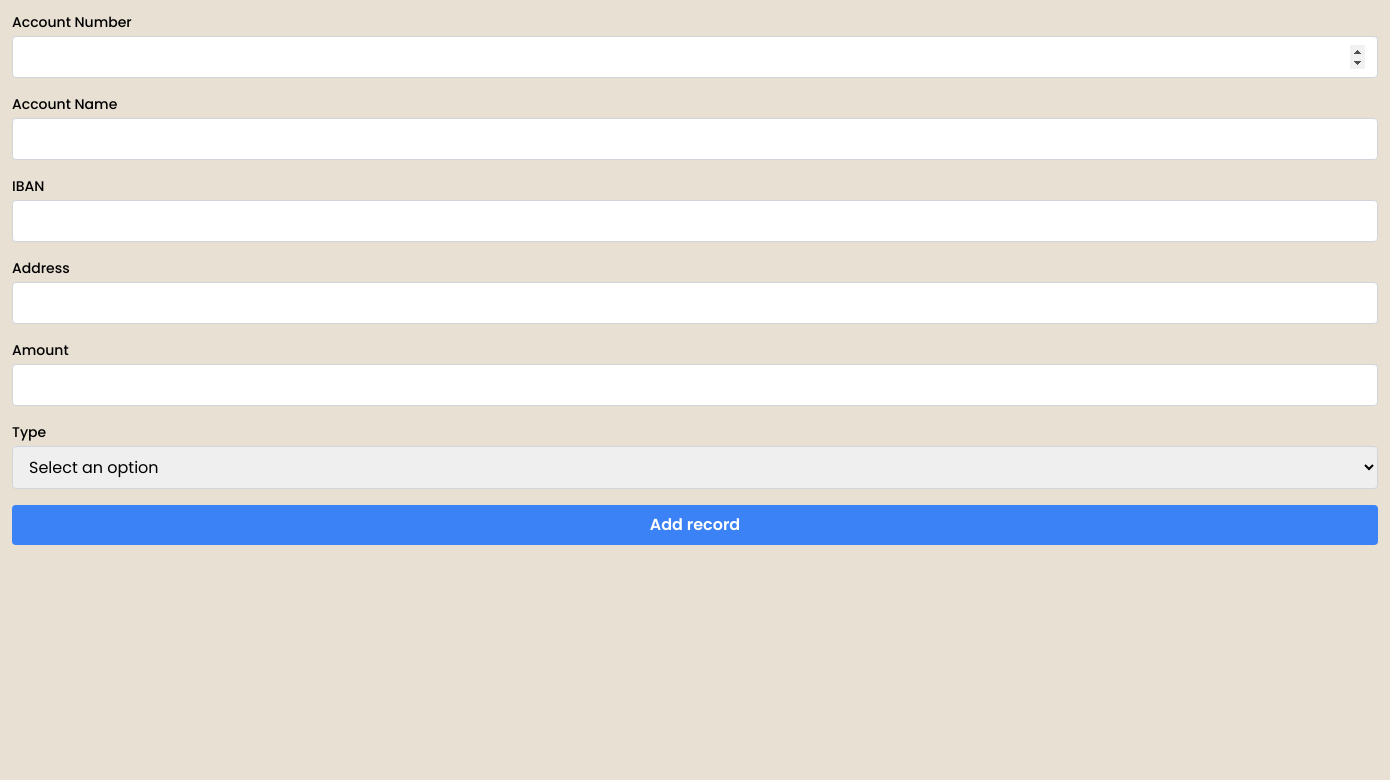
Test: AccountingForm › shows validation errors on invalid submit
The width and height of the screenshot is (1390, 780).
Click the button "Add record" at {"x": 695, "y": 525}, box 12,505 -> 1378,545
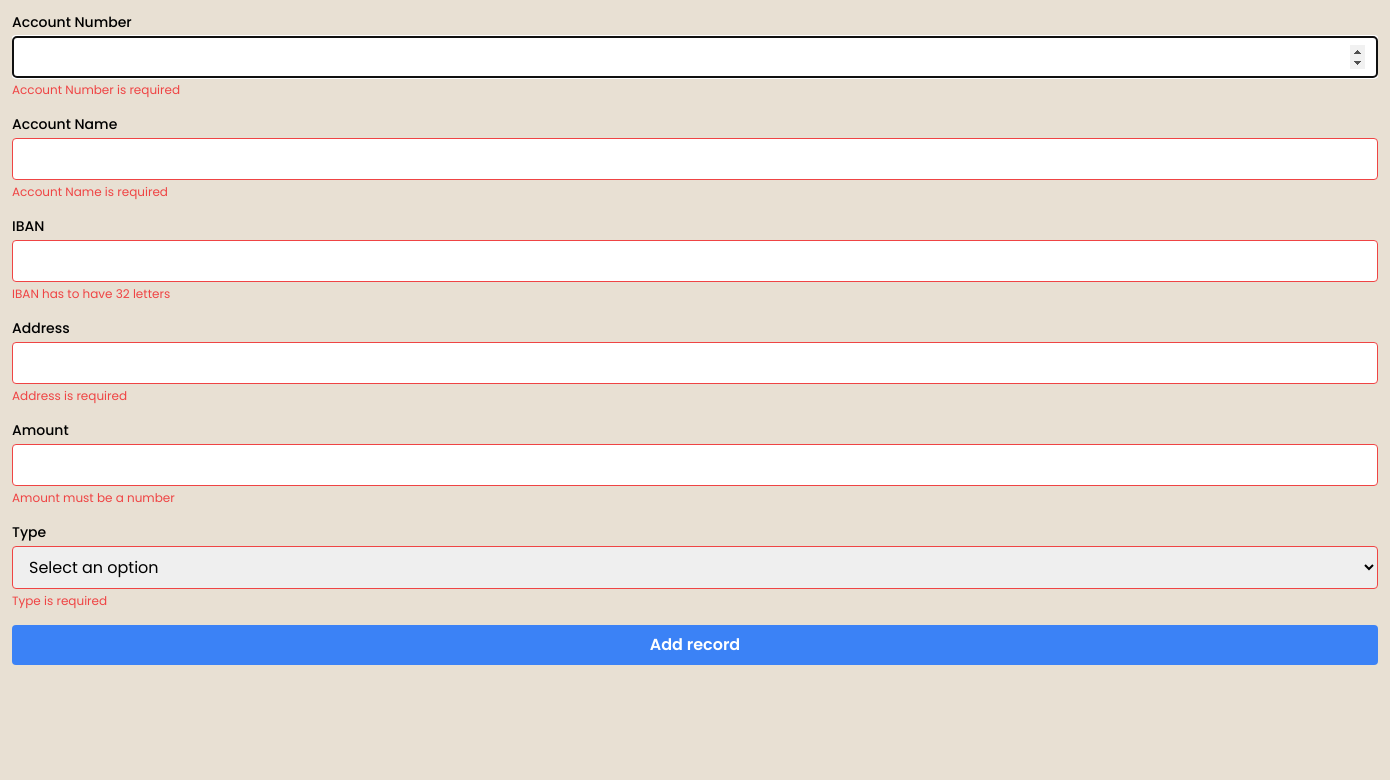
Now the text "Account Number is required" is shown, box 12,81 -> 180,98
Now the text "Account Name is required" is shown, box 12,183 -> 168,200
Now the text "IBAN has to have 32 letters" is shown, box 12,285 -> 170,302
